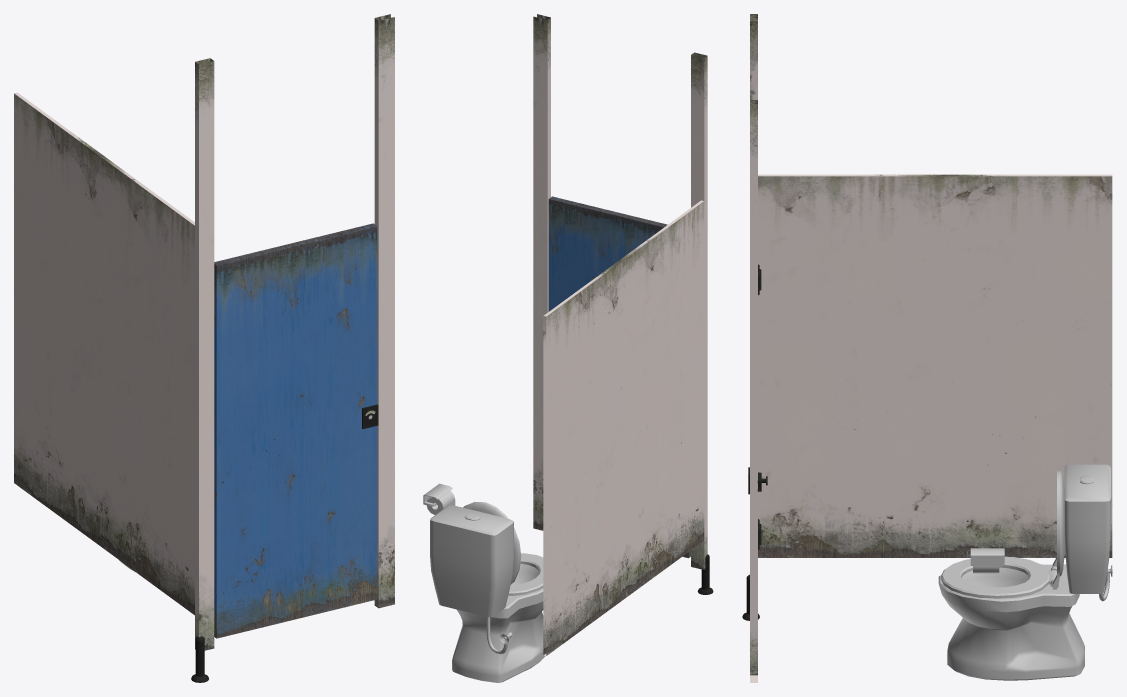
The model's file is Stall 02.FBX.
The picture shows the model from 3 angles, left to right: view 1: azimuth 30°, elevation 25°; view 2: azimuth 150°, elevation 25°; view 3: azimuth 270°, elevation 25°; orthographic projection. The views are drawn at different scales.
Visible parts, largest first — view 1: Stall Wall001, Door001; view 2: Stall Wall001, Toilet, Door001, Seat, Seat Lid; view 3: Stall Wall001, Toilet, Seat, Seat Lid, Toilet Roll Holder.
Part boxes in pixels (box(x1,y1,x2,y2)): Stall Wall001: box(14, 14, 394, 682); Door001: box(214, 223, 378, 638); Stall Wall001: box(533, 14, 713, 655); Toilet: box(430, 505, 545, 682); Door001: box(548, 196, 690, 558); Seat: box(508, 553, 543, 595); Seat Lid: box(463, 502, 521, 584); Stall Wall001: box(742, 14, 1112, 682); Toilet: box(938, 464, 1112, 680); Seat: box(941, 556, 1056, 598); Seat Lid: box(1052, 470, 1065, 589); Toilet Roll Holder: box(970, 548, 1004, 565).
Bounding box in the file's own units: 10.32 × 16.71 × 30.
